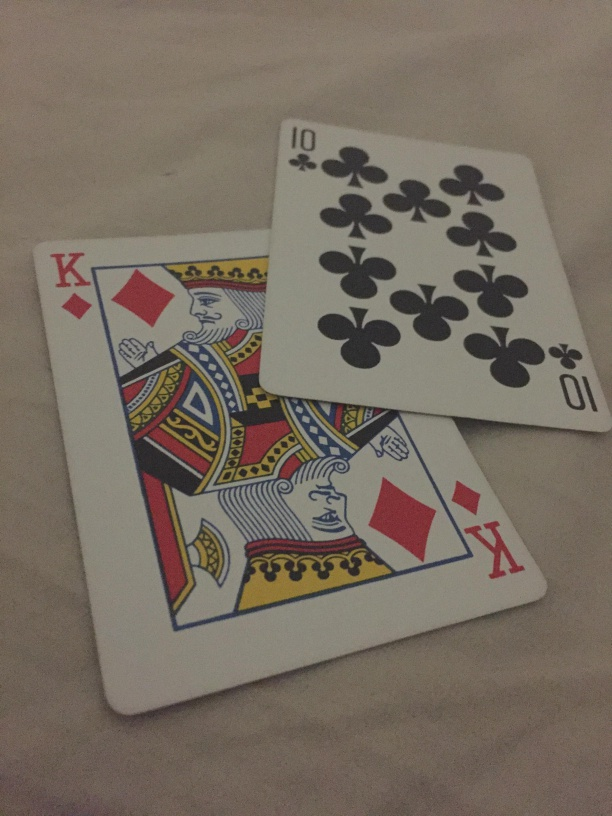10: (268, 107, 612, 437)
king: (30, 229, 551, 725)
